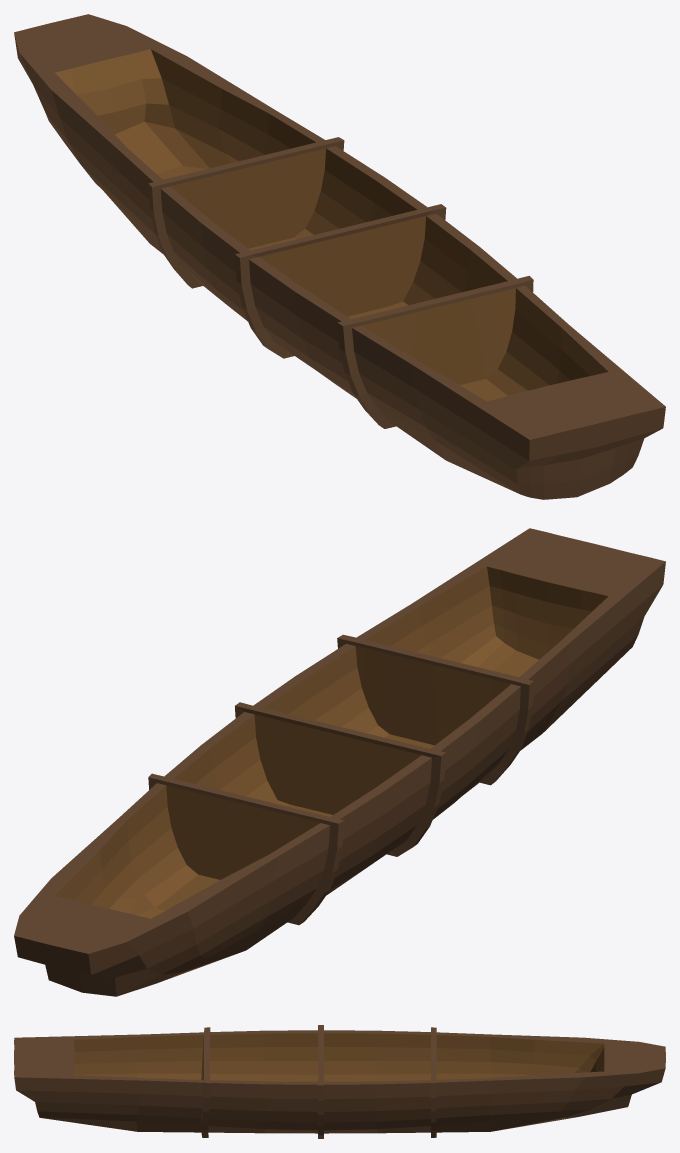
The model's file is Barca (1).fbx.
3 renders of one model, top to bottom at view 1: azimuth 30°, elevation 25°; view 2: azimuth 150°, elevation 25°; view 3: azimuth 270°, elevation 25°, orthographic. The views are drawn at different scales.
Parts seen in each view (by area): view 1: Cube; view 2: Cube; view 3: Cube.
Part boxes in pixels (x1=…): Cube: x1=14, y1=14, x2=665, y2=499; Cube: x1=14, y1=528, x2=665, y2=996; Cube: x1=14, y1=1025, x2=665, y2=1138.
Size of the model in its own units: 369 by 191 by 1695.
